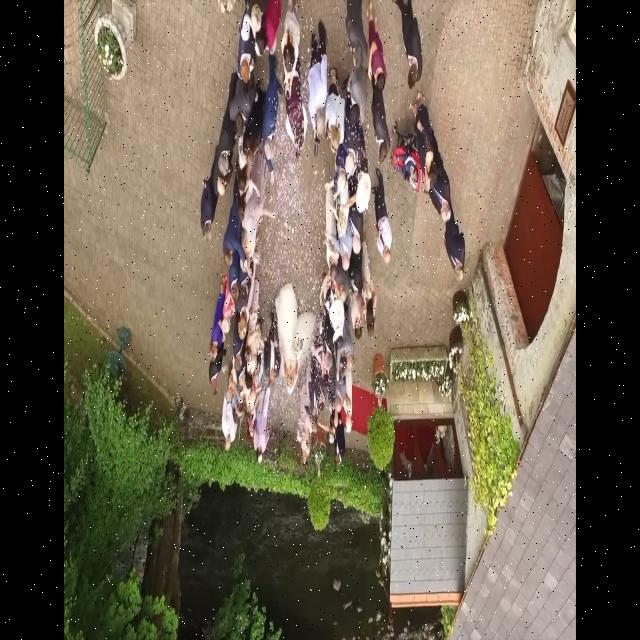humans: (309, 15, 329, 142), (281, 284, 303, 397), (401, 0, 424, 94), (420, 94, 440, 186), (280, 0, 300, 89), (442, 222, 468, 287), (346, 0, 368, 74), (264, 302, 282, 392), (372, 98, 394, 167), (375, 170, 391, 264), (372, 5, 388, 94), (208, 284, 224, 367), (198, 180, 216, 246), (329, 66, 342, 157), (361, 242, 375, 326), (230, 86, 253, 136), (325, 187, 336, 290), (216, 121, 235, 179), (223, 204, 239, 272), (348, 80, 369, 128), (433, 183, 458, 222), (238, 21, 254, 81), (297, 418, 313, 472), (343, 370, 355, 441), (343, 135, 361, 176), (350, 295, 364, 342), (221, 422, 241, 452), (208, 366, 225, 400), (236, 193, 260, 217), (339, 231, 352, 274), (244, 354, 257, 395), (238, 295, 252, 333), (245, 408, 259, 446), (233, 340, 245, 375), (333, 443, 346, 471), (320, 364, 331, 388)
